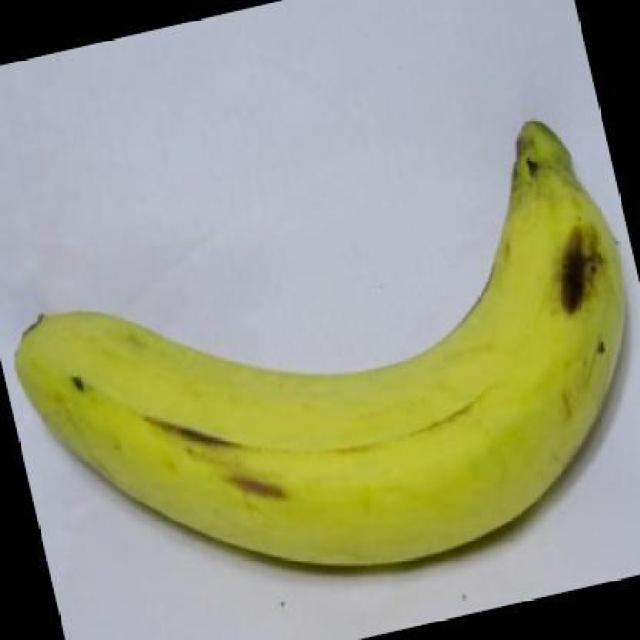ripe: (0, 111, 640, 572)
